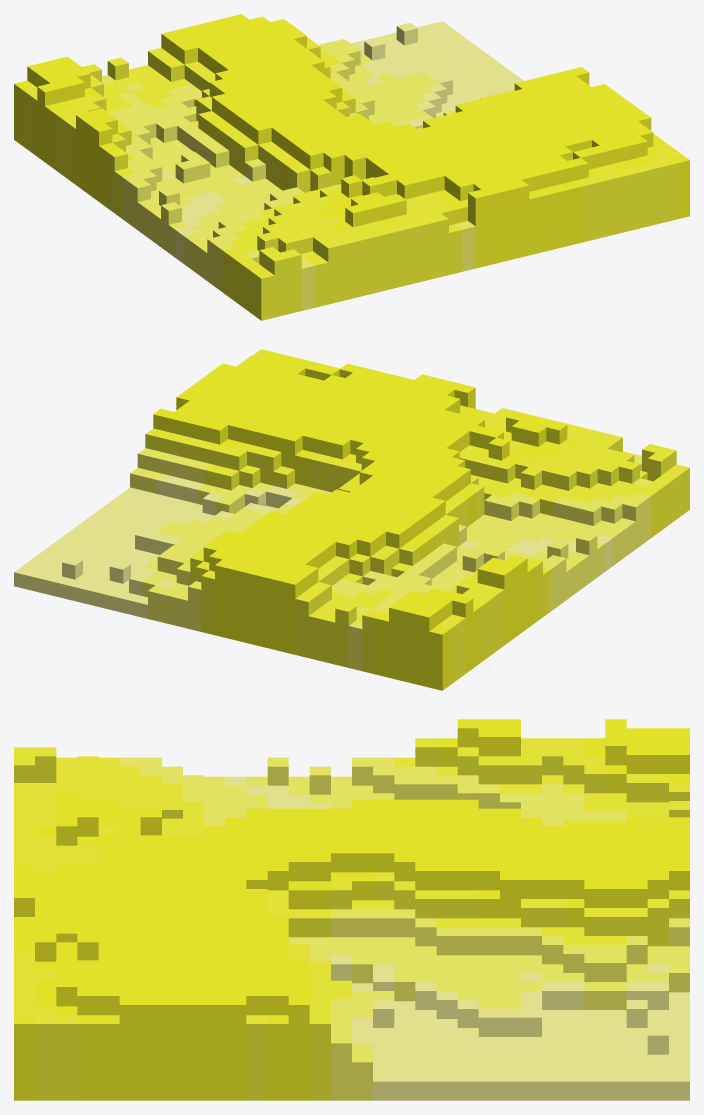
The model's file is Destert Map-9.obj.
3 views of the same model, one above another, from view 1: azimuth 30°, elevation 25°; view 2: azimuth 150°, elevation 25°; view 3: azimuth 270°, elevation 25° (orthographic). The views are drawn at different scales.
Size of the model in its own units: 3.2 by 0.5 by 3.2.
1 material, 1 textured.
